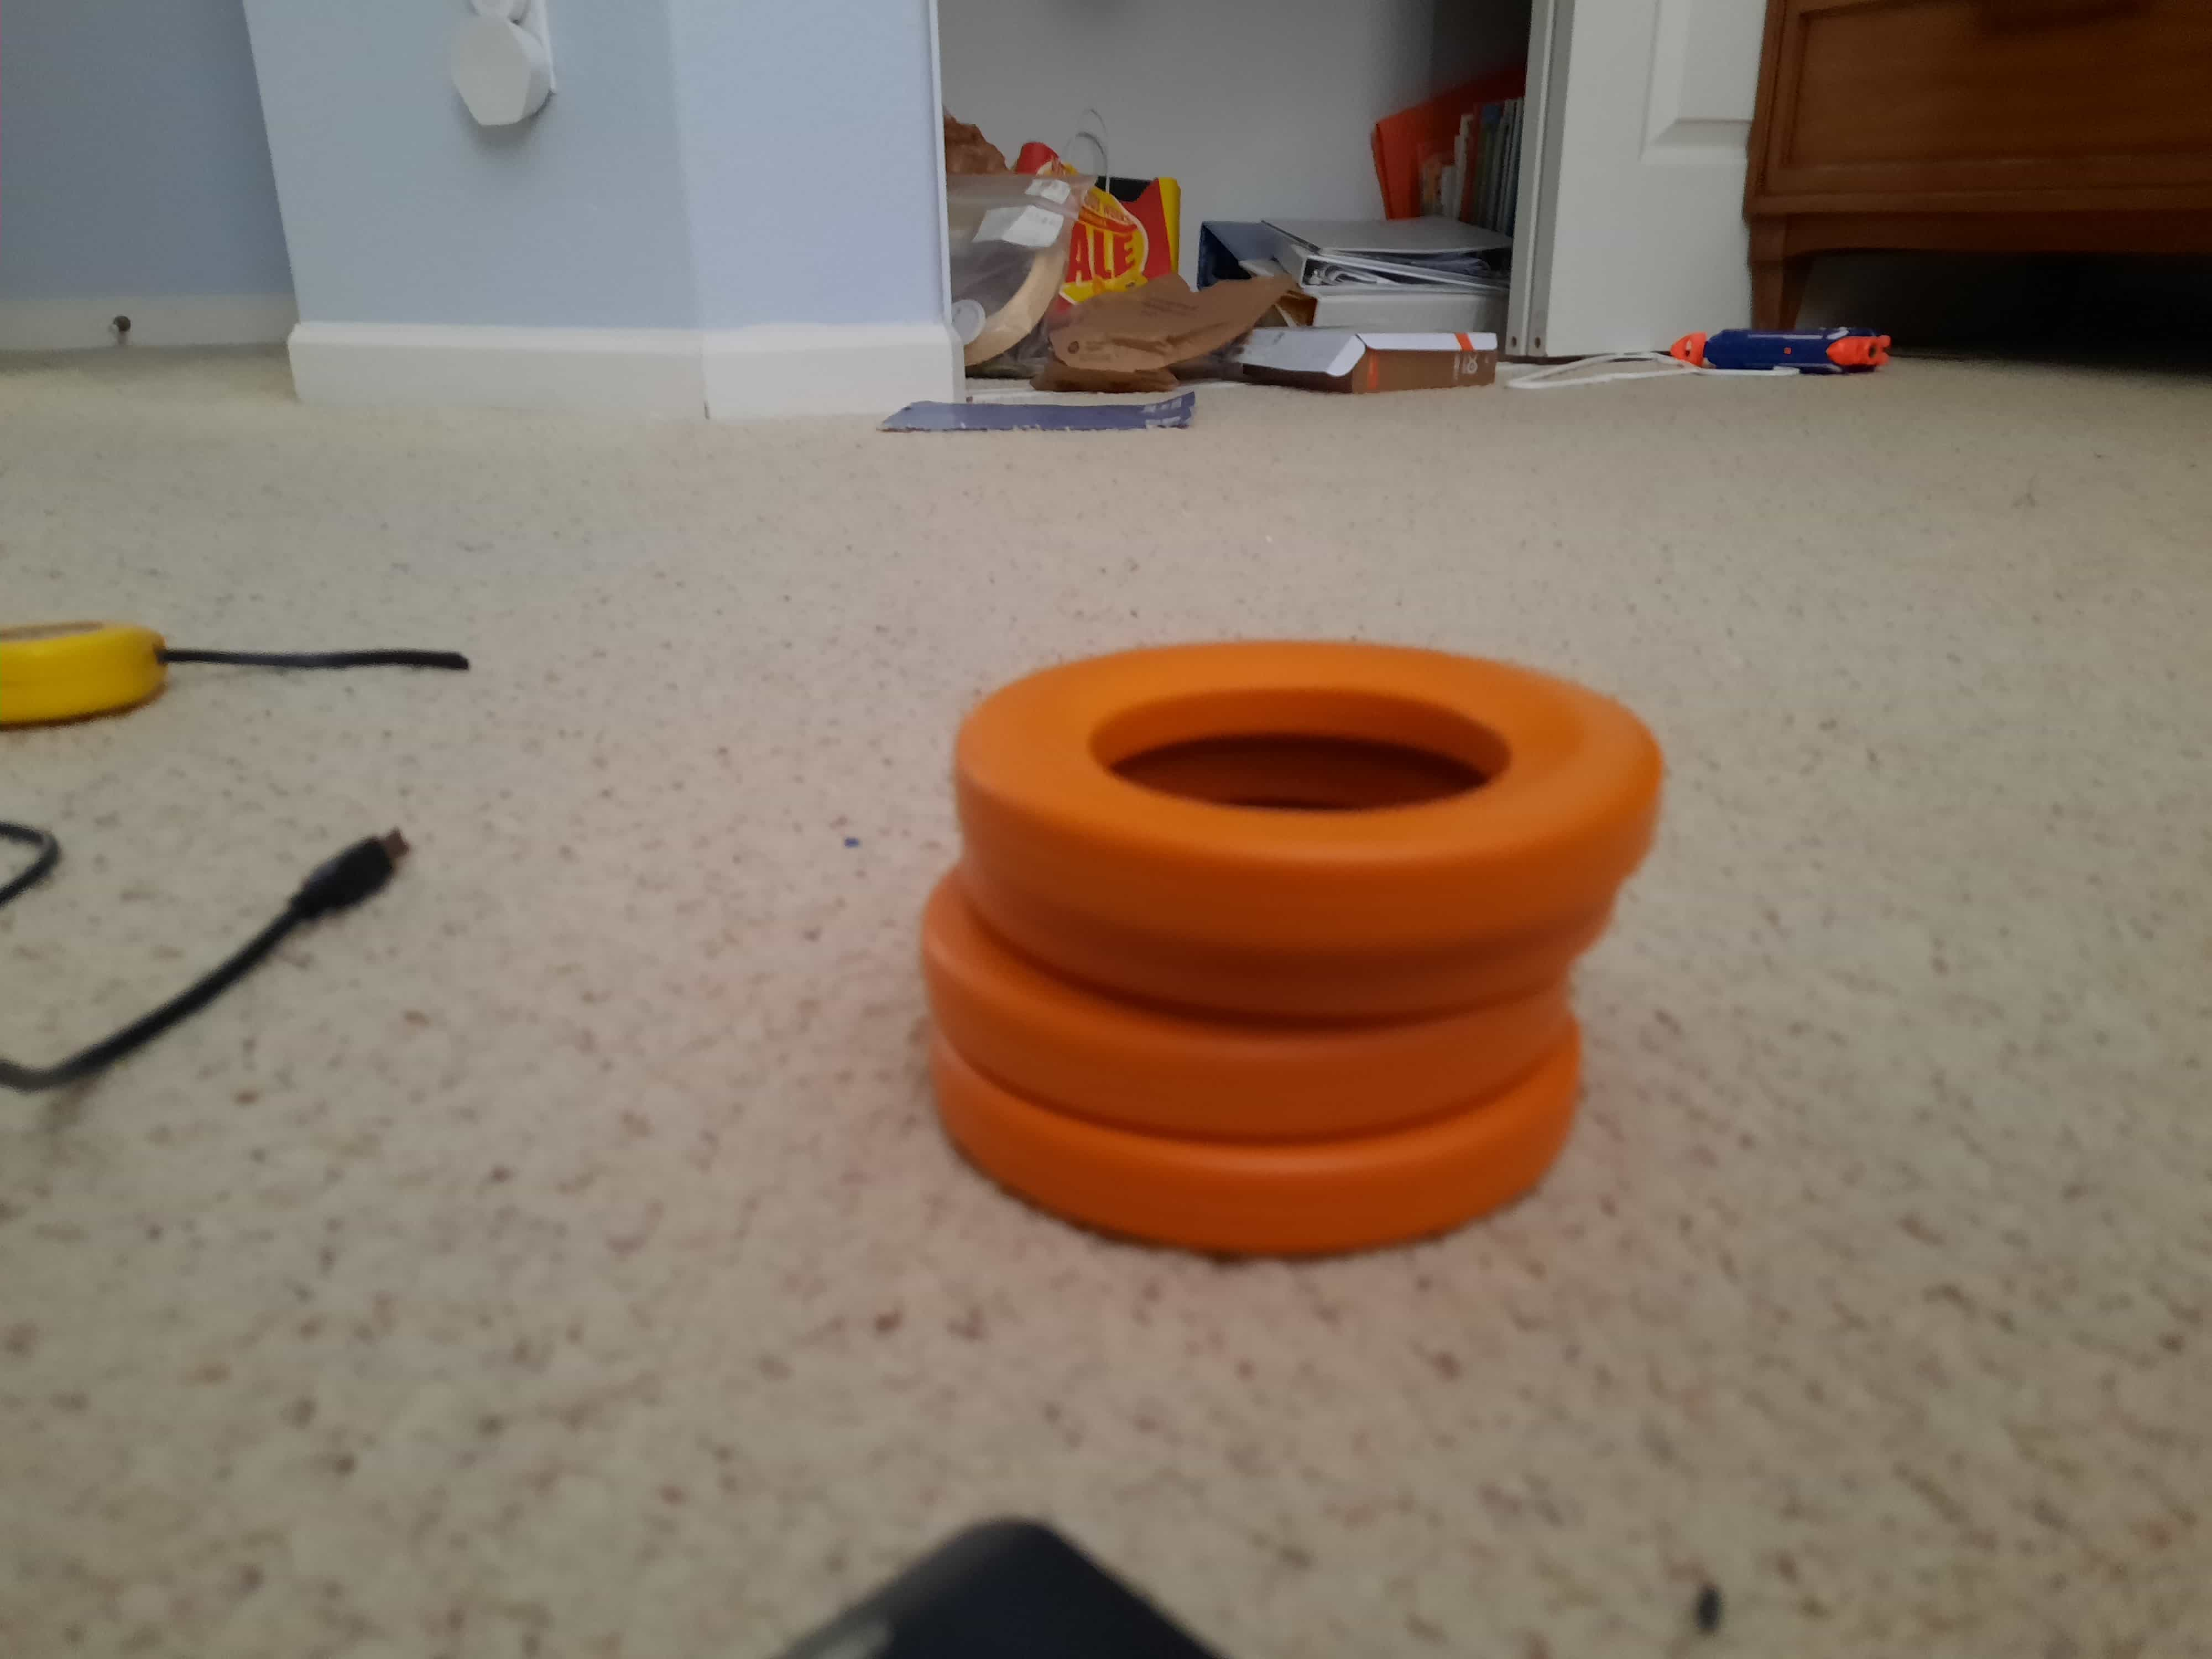FourStack: (920, 638, 1667, 1248)
